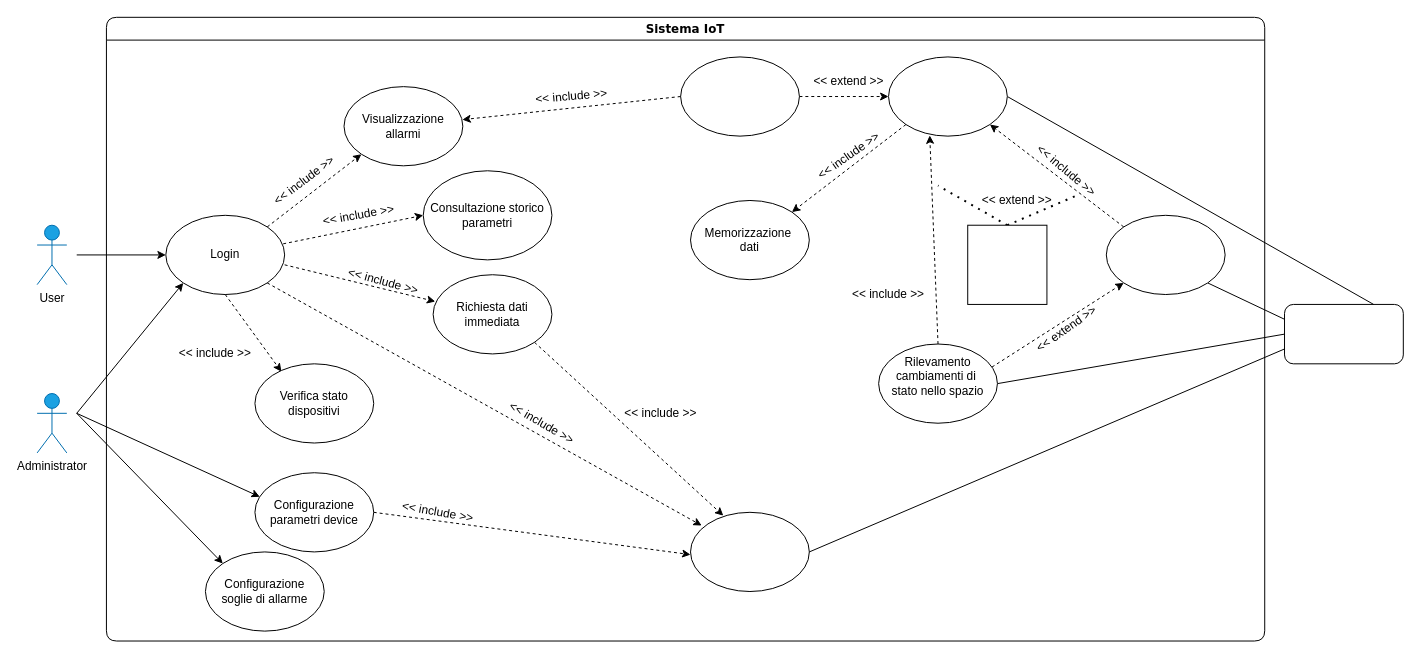
The diagram is 1421 pixels wide and 658 high, and some of its shapes have lost their labels. The shapes that lost their labels are listed below. From the top down, each one's box as (x1, y1, x2, y2) in pixels, then its label:
(680, 56, 799, 136): Generazione allarmi
(888, 56, 1007, 136): Trasmissione telemetria
(967, 224, 1047, 304): Errori nella trasmissione
(1105, 214, 1225, 295): Acquisizione parametri ambientali e di stato
(1284, 303, 1403, 364): Board STEVAL-NBIOTV1
(690, 511, 809, 592): Invio comando remoto
